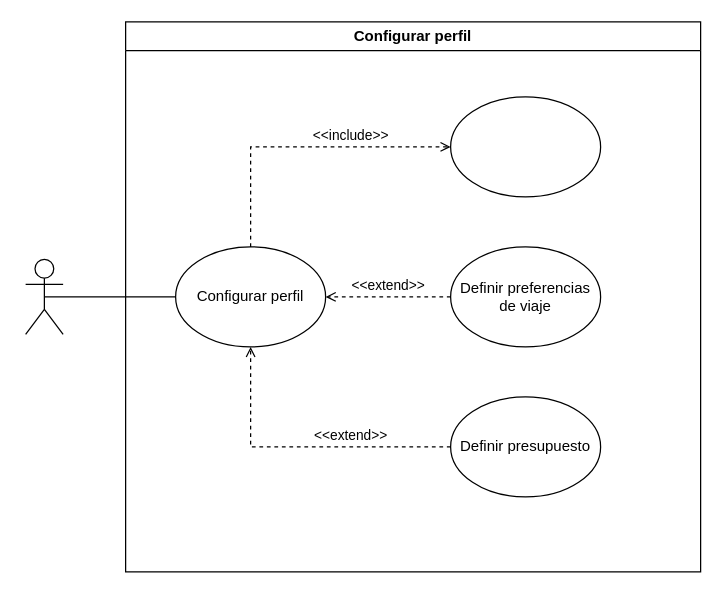
Some shapes in this 723 by 594 pixel diagram are drawn without their labels. The centre of each missing label's shape, as x and y in pixels:
"Consultar perfil" belongs at point (525, 146).
"Viajero" belongs at point (43, 296).
